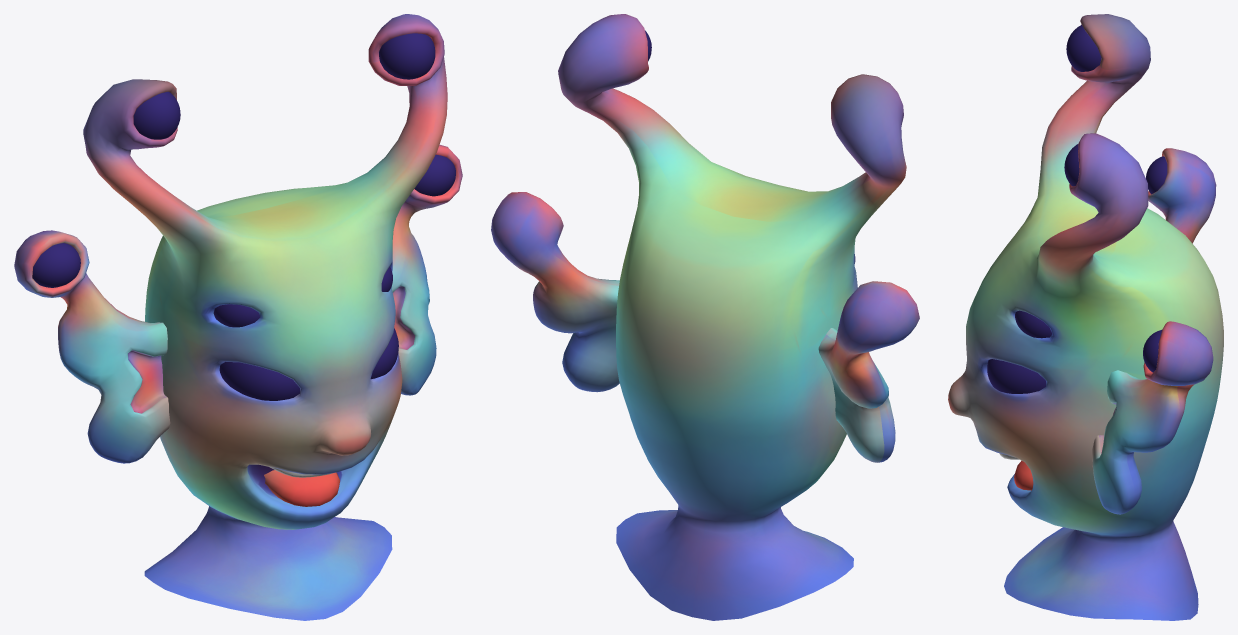
The model's file is alien3.glb.
The picture shows the model from 3 angles, left to right: view 1: azimuth 30°, elevation 25°; view 2: azimuth 150°, elevation 25°; view 3: azimuth 270°, elevation 25°; orthographic projection. The views are drawn at different scales.
Visible parts, largest first — view 1: HEAD, EYE-TOP, EYE-EAR, EYE_FACE_MAIN, EYE_FACE_S; view 2: HEAD; view 3: HEAD, EYE-TOP, EYE_FACE_MAIN, EYE-EAR, EYE_FACE_S.
Boxes of the visible parts, <box> form: HEAD: <box>14,14,462,620</box>; EYE-TOP: <box>133,33,435,139</box>; EYE-EAR: <box>32,154,455,287</box>; EYE_FACE_MAIN: <box>219,328,398,400</box>; EYE_FACE_S: <box>213,266,392,327</box>; HEAD: <box>491,14,919,620</box>; HEAD: <box>948,14,1223,620</box>; EYE-TOP: <box>1064,25,1101,186</box>; EYE_FACE_MAIN: <box>987,359,1045,393</box>; EYE-EAR: <box>1143,156,1167,372</box>; EYE_FACE_S: <box>1015,310,1051,338</box>.
Size of the model in its own units: 3.07 by 3.71 by 1.76.
Materials: 3 (1 with a texture image).
